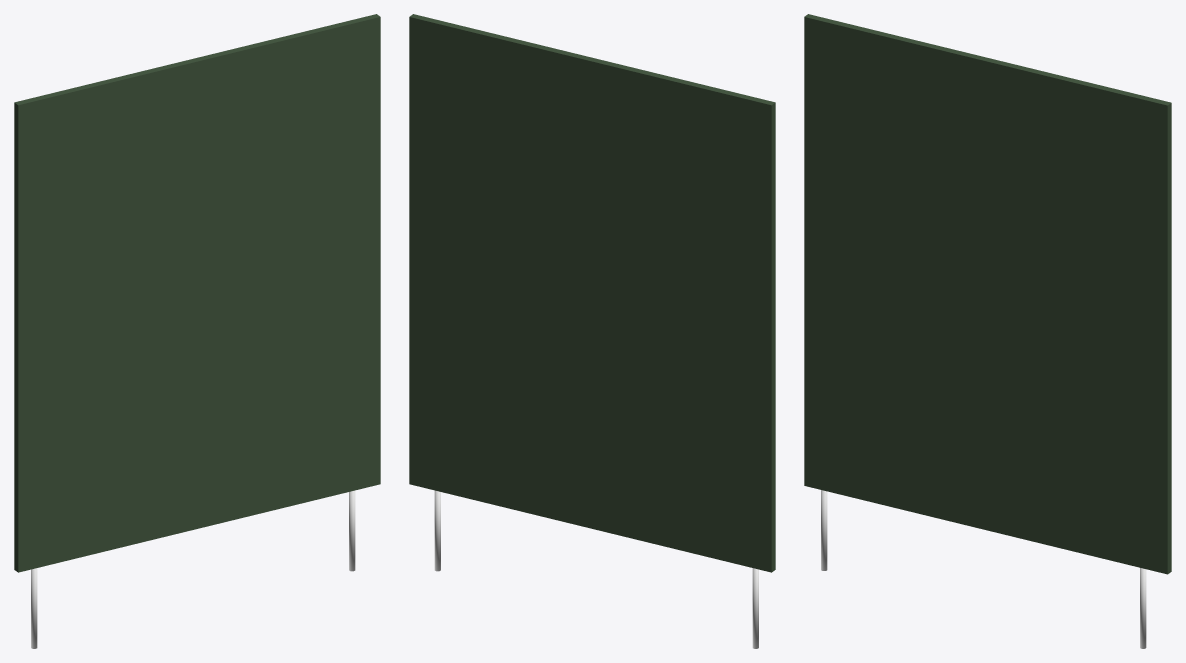
The model's file is StallSidePanel.glb.
The picture shows the model from 3 angles, left to right: view 1: azimuth 30°, elevation 25°; view 2: azimuth 150°, elevation 25°; view 3: azimuth 330°, elevation 25°; orthographic projection.
Parts seen in each view (by area): view 1: stall_panel, stall_panel_posts; view 2: stall_panel, stall_panel_posts; view 3: stall_panel, stall_panel_posts.
Boxes of the visible parts, <box> form: stall_panel: <box>14,14,380,572</box>; stall_panel_posts: <box>31,490,355,648</box>; stall_panel: <box>409,14,775,572</box>; stall_panel_posts: <box>434,490,758,648</box>; stall_panel: <box>804,14,1171,574</box>; stall_panel_posts: <box>821,490,1146,648</box>.
Bounding box in the file's own units: 8.2 × 11.86 × 0.1548.
